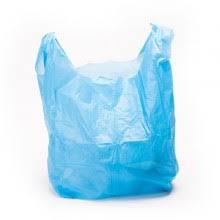Plastic: (34, 18, 186, 198)
